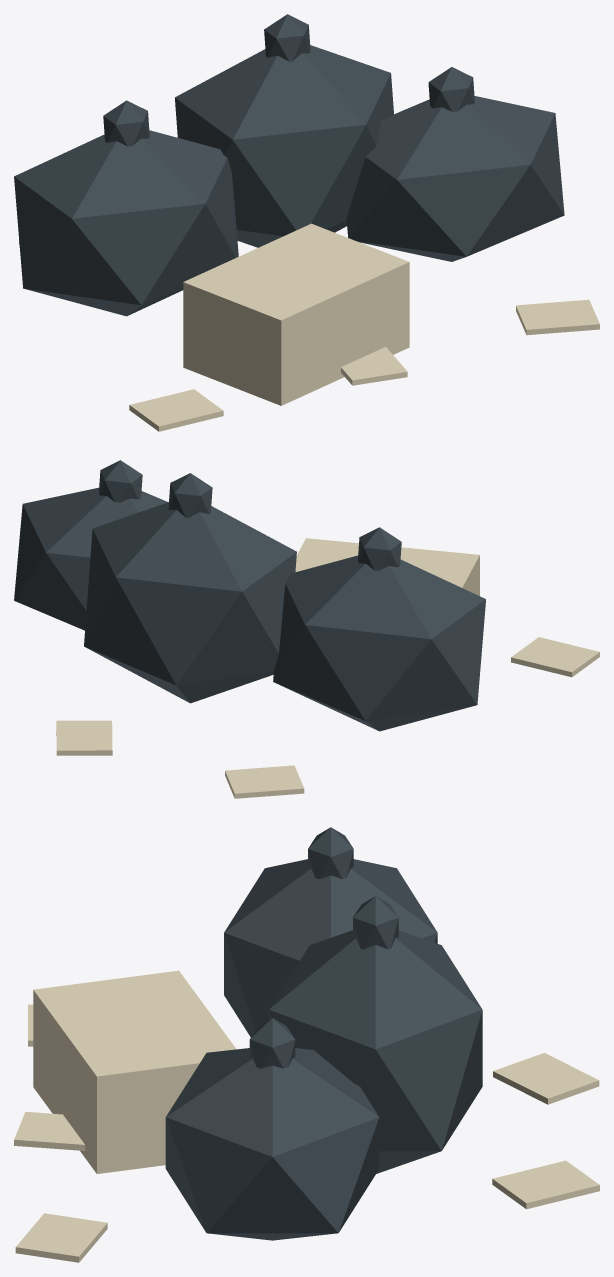
File: Litter_Pile.fbx
The picture shows the model from 3 angles, top to bottom: view 1: azimuth 30°, elevation 25°; view 2: azimuth 150°, elevation 25°; view 3: azimuth 270°, elevation 25°; orthographic projection. The views are drawn at different scales.
Parts seen in each view (by area): view 1: Litter_Pile_Mesh; view 2: Litter_Pile_Mesh; view 3: Litter_Pile_Mesh.
Part boxes in pixels (box(x1,y1,x2,y2)): Litter_Pile_Mesh: box(14, 14, 599, 431); Litter_Pile_Mesh: box(14, 460, 599, 798); Litter_Pile_Mesh: box(14, 827, 599, 1262).
Size of the model in its own units: 149 by 68.45 by 131.
